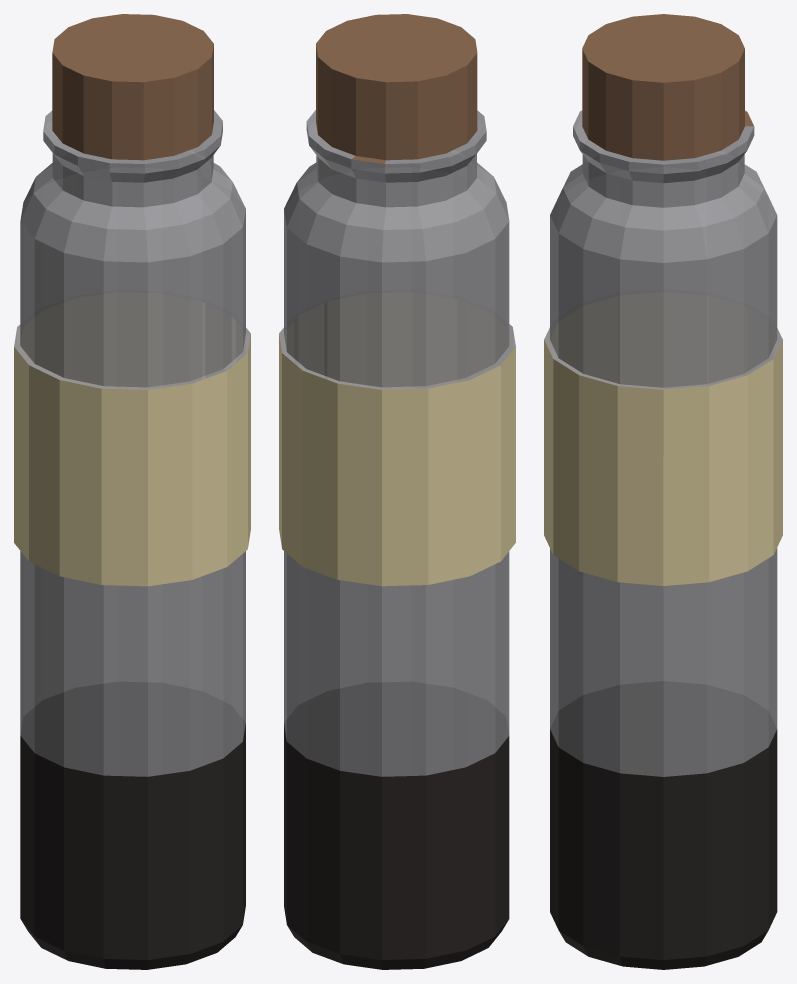
Rendered from vial.fbx.
The picture shows the model from 3 angles, left to right: view 1: azimuth 30°, elevation 25°; view 2: azimuth 150°, elevation 25°; view 3: azimuth 270°, elevation 25°; orthographic projection.
Visible parts, largest first — view 1: VialQuaterFull; view 2: VialQuaterFull; view 3: VialQuaterFull.
Boxes of the visible parts, box(x1,y1,x2,y2) form: VialQuaterFull: box(14, 14, 250, 969); VialQuaterFull: box(279, 14, 515, 969); VialQuaterFull: box(544, 14, 782, 969).
Bounding box in the file's own units: 50.42 × 207 × 50.42.
